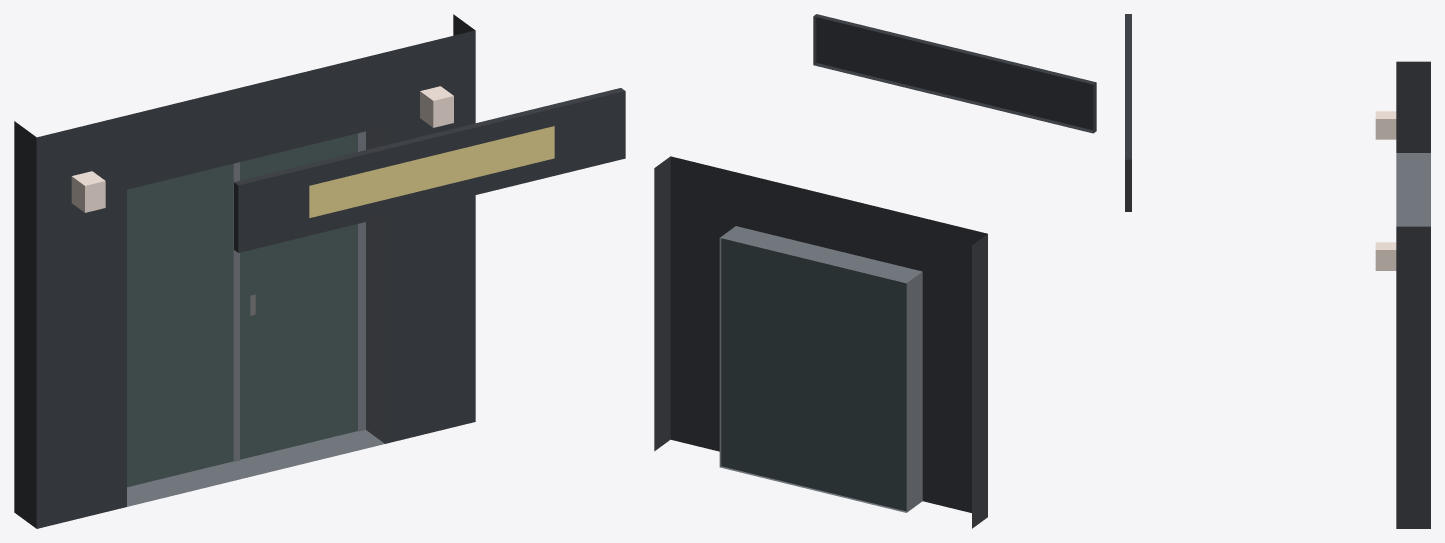
Rendered from entrance.fbx.
The picture shows the model from 3 angles, left to right: view 1: azimuth 30°, elevation 25°; view 2: azimuth 150°, elevation 25°; view 3: azimuth 270°, elevation 25°; orthographic projection. The views are drawn at different scales.
Visible parts, largest first — view 1: a2011/300/entrance; view 2: a2011/300/entrance; view 3: a2011/300/entrance.
Part boxes in pixels (x1=…): a2011/300/entrance: x1=14, y1=14, x2=625, y2=528; a2011/300/entrance: x1=654, y1=14, x2=1096, y2=528; a2011/300/entrance: x1=1125, y1=14, x2=1430, y2=528.
Bounding box in the file's own units: 3.4 × 3.45 × 2.66.
